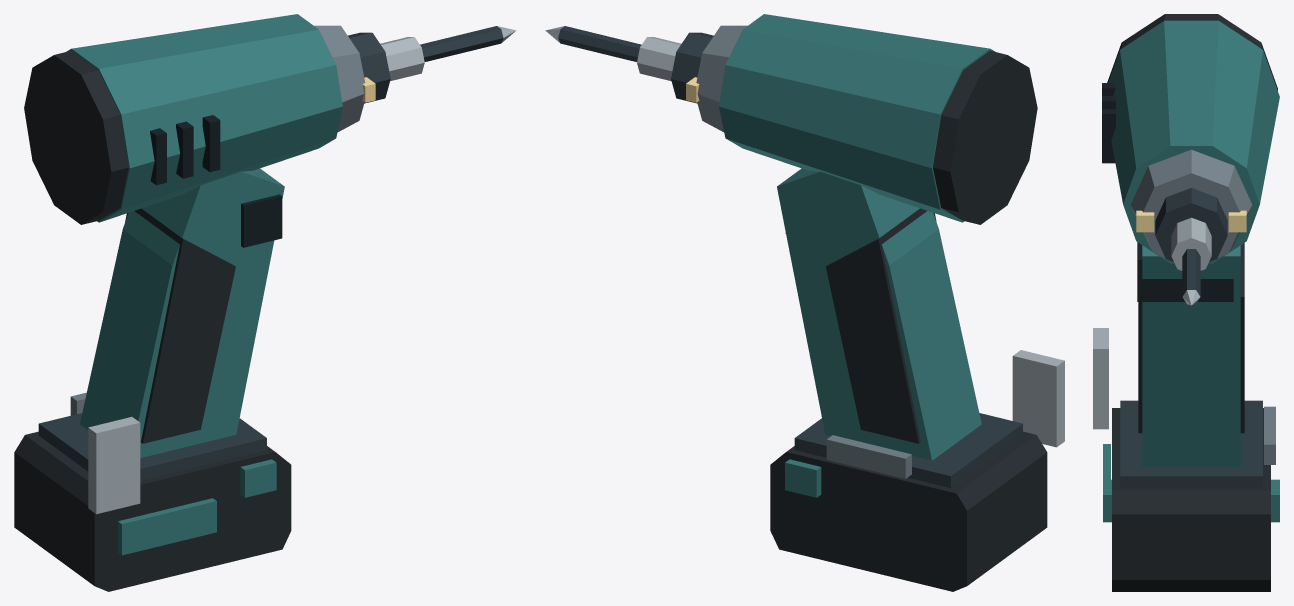
Rendered from b06_impact_driver.glb.
3 renders of one model, left to right at view 1: azimuth 30°, elevation 25°; view 2: azimuth 150°, elevation 25°; view 3: azimuth 270°, elevation 25°, orthographic.
Visible parts, largest first — view 1: b06_impact_driver; view 2: b06_impact_driver; view 3: b06_impact_driver.
Part boxes in pixels (x1=…): b06_impact_driver: x1=14, y1=14, x2=516, y2=591; b06_impact_driver: x1=545, y1=14, x2=1064, y2=591; b06_impact_driver: x1=1093, y1=14, x2=1279, y2=591.
Size of the model in its own units: 0.2675 by 0.2718 by 0.093.
